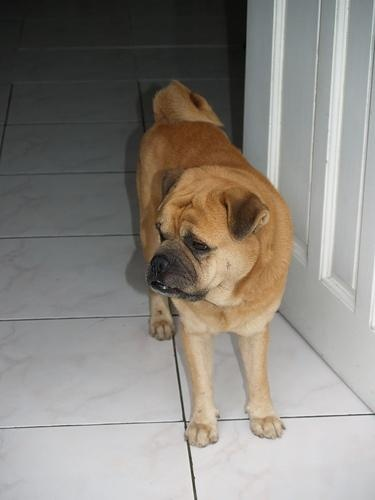dog: (131, 79, 294, 450)
